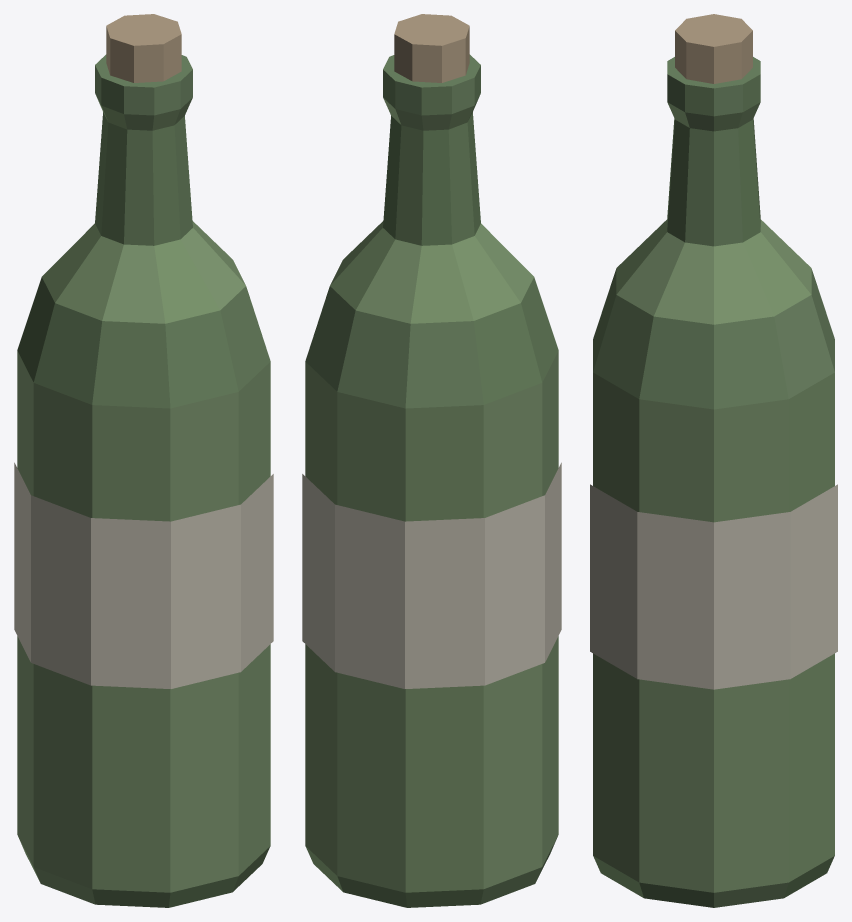
The model's file is glasflasche_gruen.glb.
3 renders of one model, left to right at view 1: azimuth 30°, elevation 25°; view 2: azimuth 150°, elevation 25°; view 3: azimuth 270°, elevation 25°, orthographic.
Visible parts, largest first — view 1: flasche; view 2: flasche; view 3: flasche.
Boxes of the visible parts, left/top/right/bottom form: flasche: left=14, top=14, right=273, bottom=907; flasche: left=302, top=14, right=561, bottom=907; flasche: left=590, top=14, right=837, bottom=907.
Size of the model in its own units: 0.127 by 0.445 by 0.1208.
